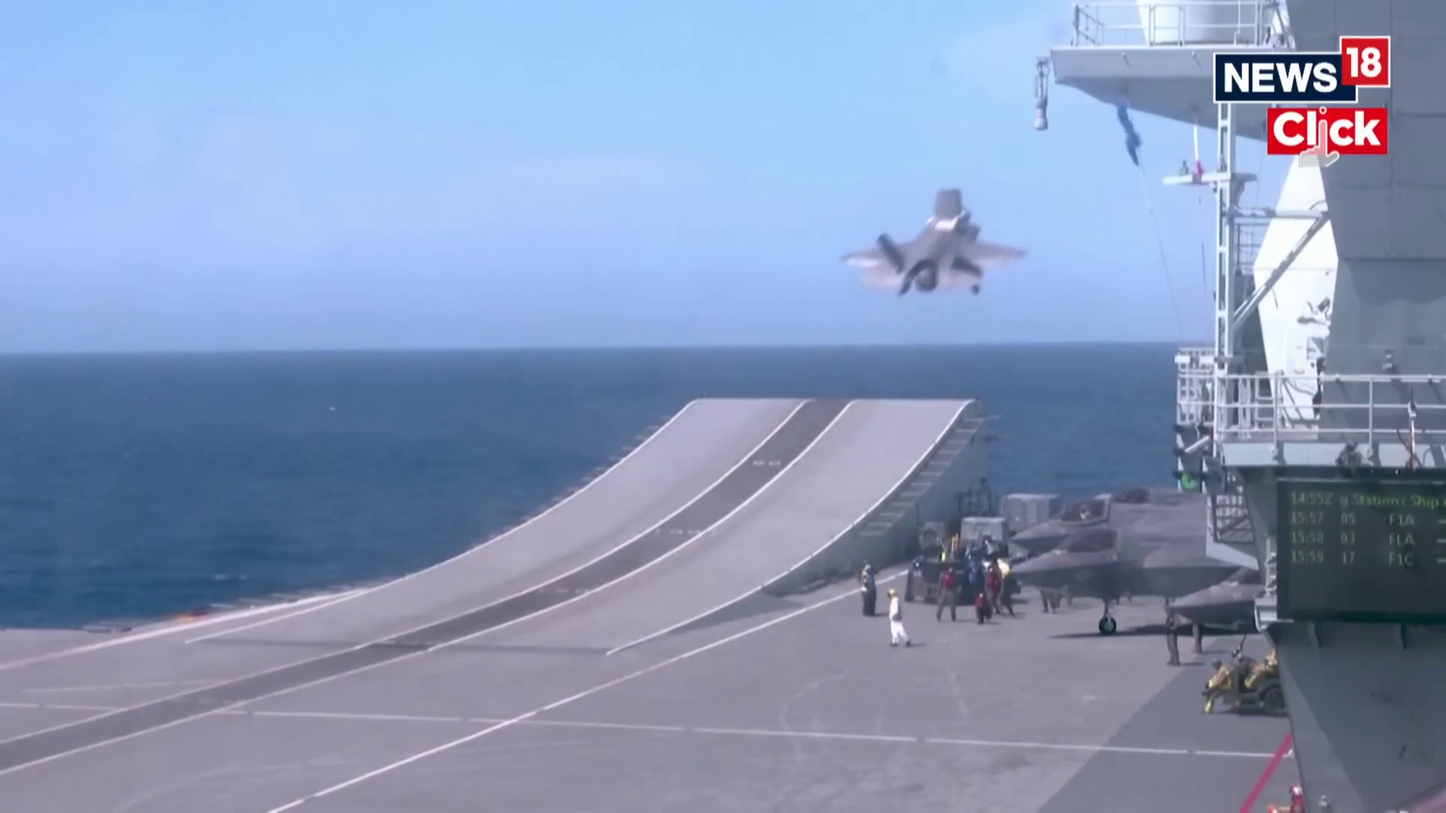F35: (840, 188, 1022, 298)
